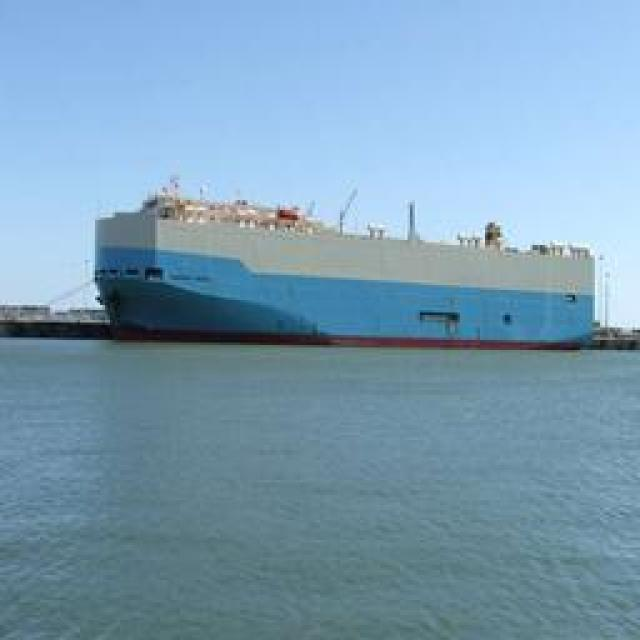ship2: (92, 175, 599, 351)
